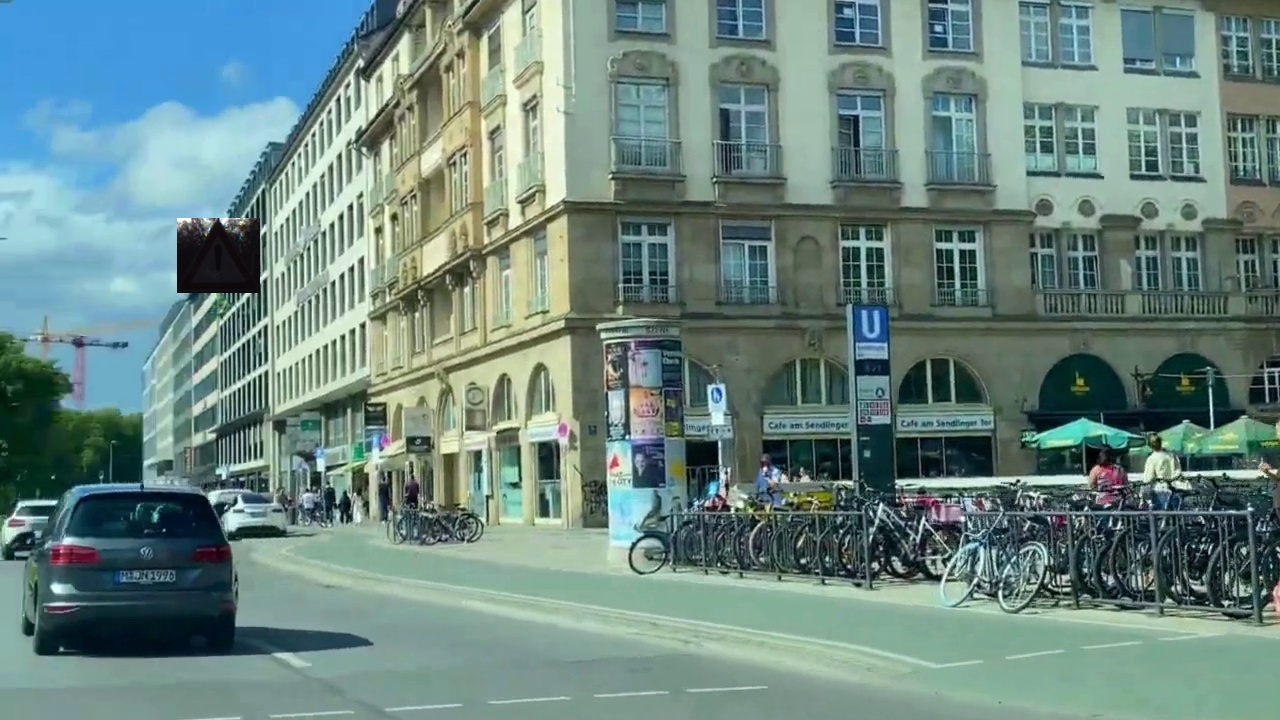Caution: (177, 218, 260, 293)
